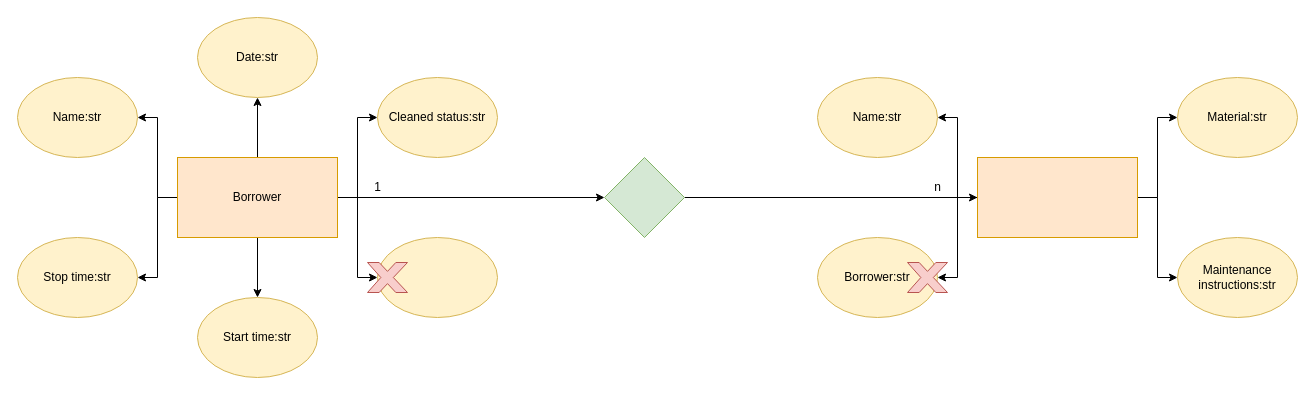
Some shapes in this 1315 by 395 pixel diagram are drawn without their labels. The box of each missing label's shape, as (x1, y1, x2, y2) in pixels:
Appliance:str: (376, 236, 498, 318)
has: (604, 156, 684, 238)
Kitchen appliance: (976, 156, 1138, 238)
